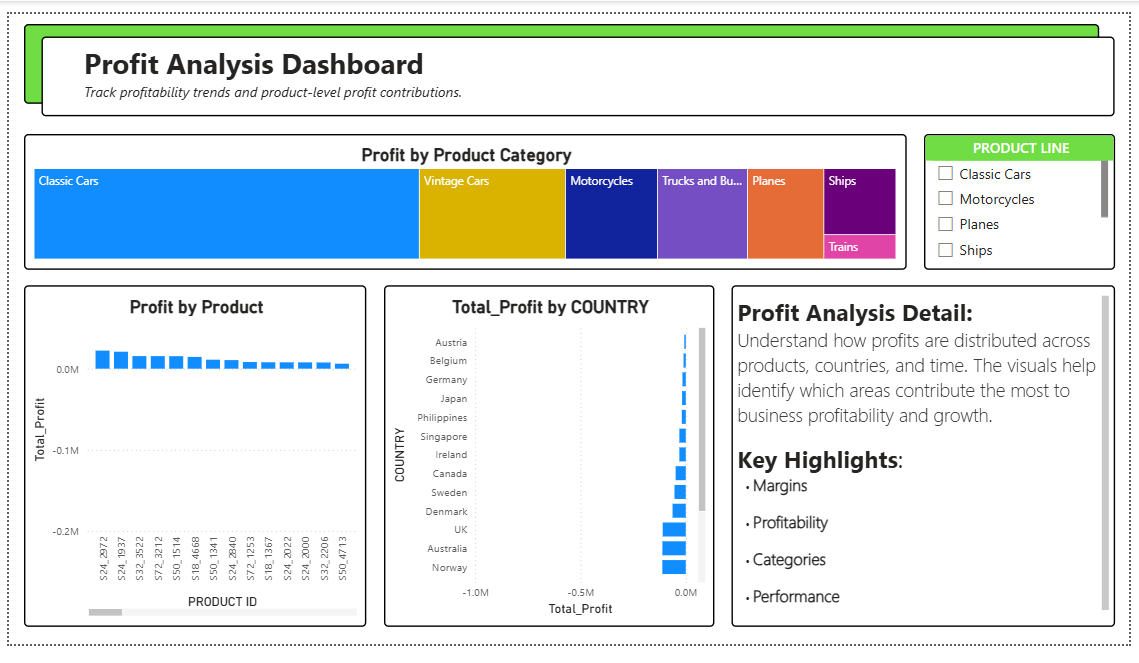

The dashboard page shown, as its layout file describes it:
{"tool":"powerbi","page":{"name":"Page 3","canvas":[1280,720],"ordinal":2},"visuals":[{"type":"textbox","box":[17.5,11.2,1228.8,91.2],"z":0},{"type":"textbox","box":[37.5,25,1226.2,91.2],"z":1000},{"type":"treemap","title":"Profit by Product Category","fields":{"Group":["Product.PRODUCTLINE"],"Values":["Final_sales.Total_Sales"]},"box":[17.5,137.5,1008.8,155],"z":2000},{"type":"clusteredColumnChart","title":"Profit by Product","fields":{"Y":["Final_sales.Total_Profit"],"Category":["Product.PRODUCT ID"]},"box":[17.5,310,391.2,390],"z":3000},{"type":"clusteredBarChart","fields":{"Y":["Final_sales.Total_Profit"],"Category":["Customers.COUNTRY"]},"box":[428.8,310,377.5,390],"z":4000},{"type":"textbox","box":[825,310,438.8,390],"z":5000},{"type":"slicer","title":"PRODUCT LINE","fields":{"Values":["Product.PRODUCTLINE"]},"box":[1045,137.5,218.8,155],"z":6000}]}

Visuals, with their boxes in screenshot pixels (x1, y1, x2, y2):
textbox: BBox(18, 22, 1097, 102)
textbox: BBox(36, 34, 1112, 114)
"Profit by Product Category" treemap: BBox(18, 133, 904, 269)
"Profit by Product" clusteredColumnChart: BBox(18, 284, 362, 626)
clusteredBarChart - Final_sales.Total_Profit x Customers.COUNTRY: BBox(379, 284, 711, 626)
textbox: BBox(727, 284, 1112, 626)
"PRODUCT LINE" slicer: BBox(920, 133, 1112, 269)
